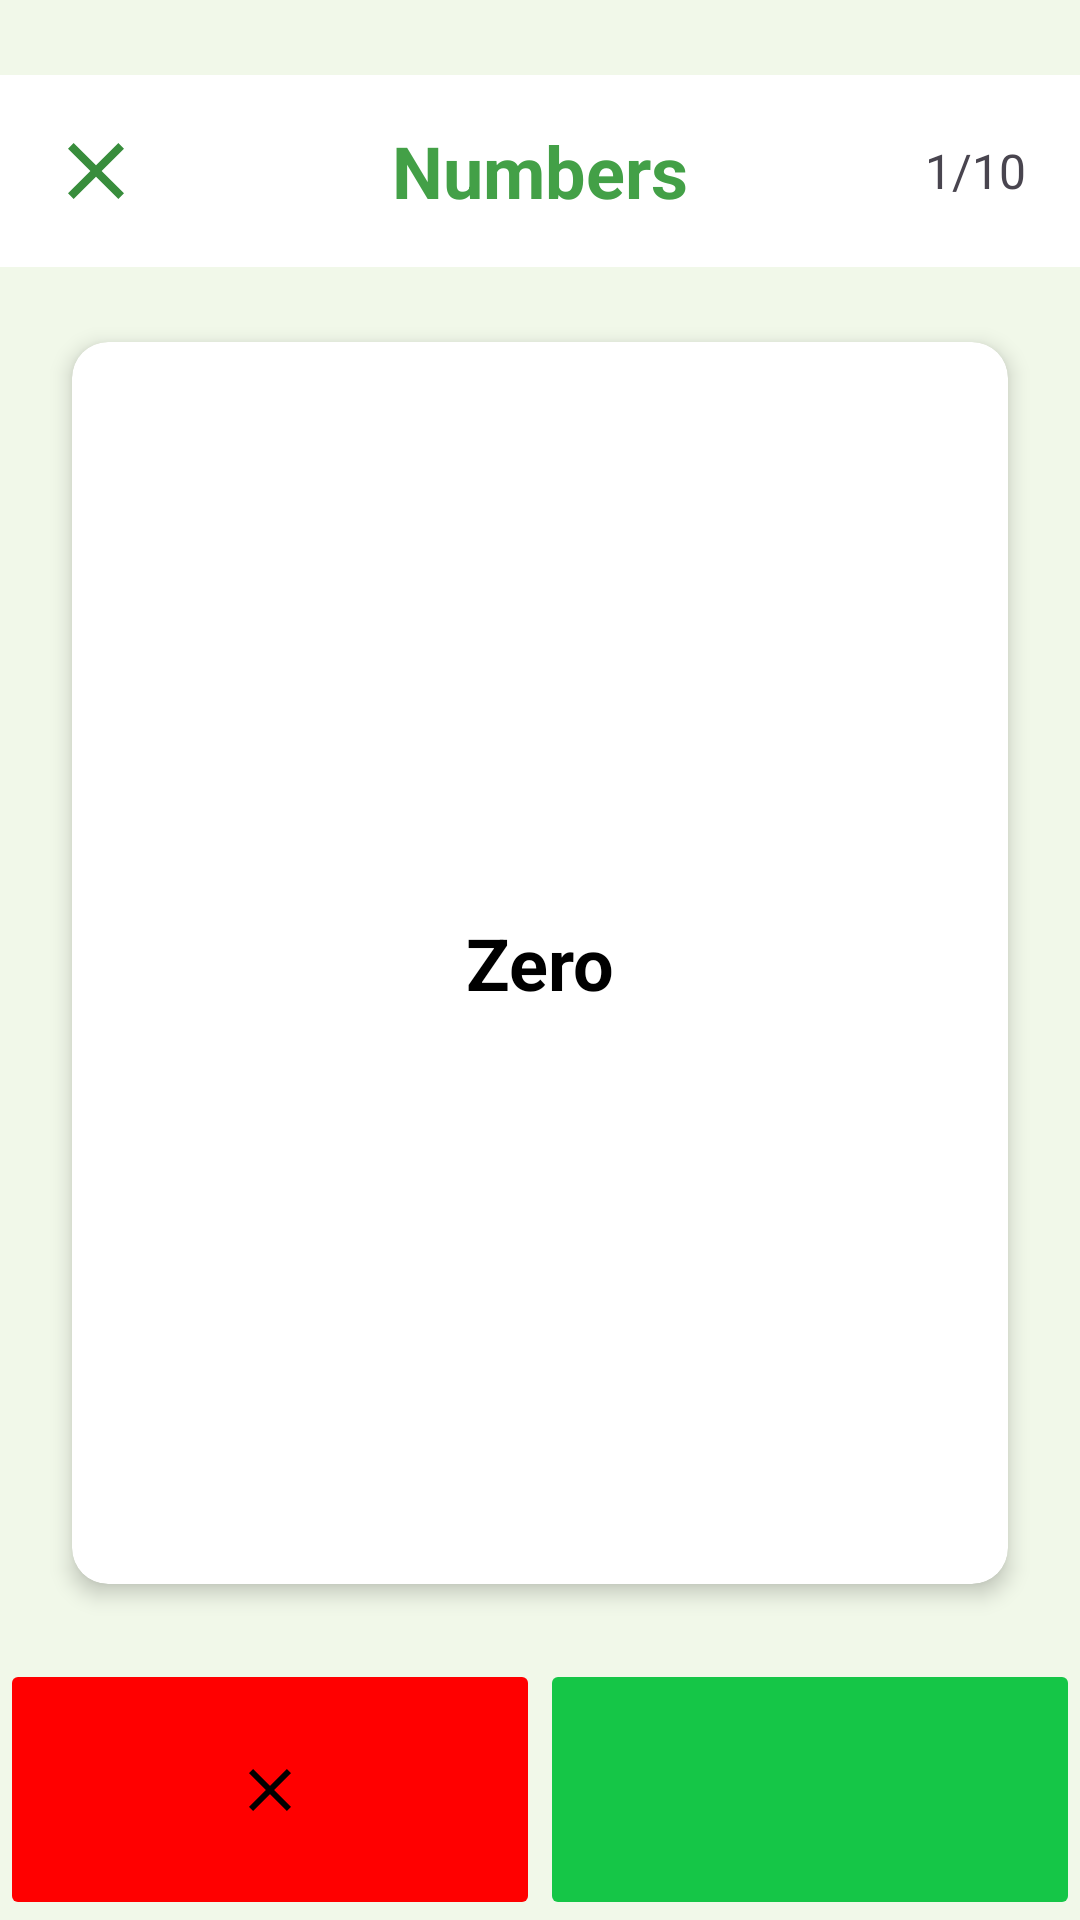

Screen size 1080x1920. Icon name, then its box in pixels as Rect(x1, y1, x2, y2):
close: Rect(68, 143, 124, 199)
